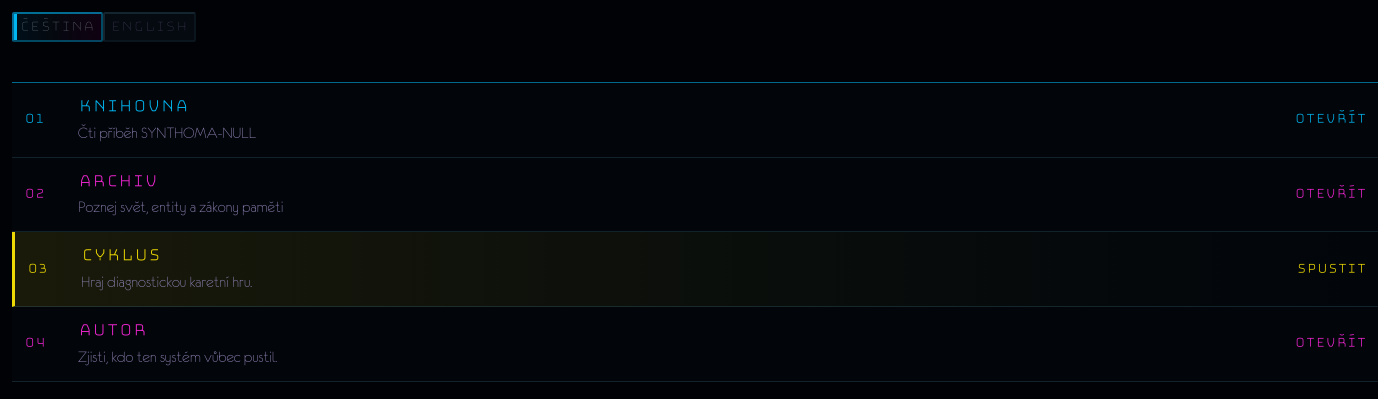
Test case: HomeSectorLinks › updates Author copy through the existing locale provider without changing its route
This screenshot has width=1378, height=399.
Click the button "English" at point(149, 27), box [103,12,196,42]
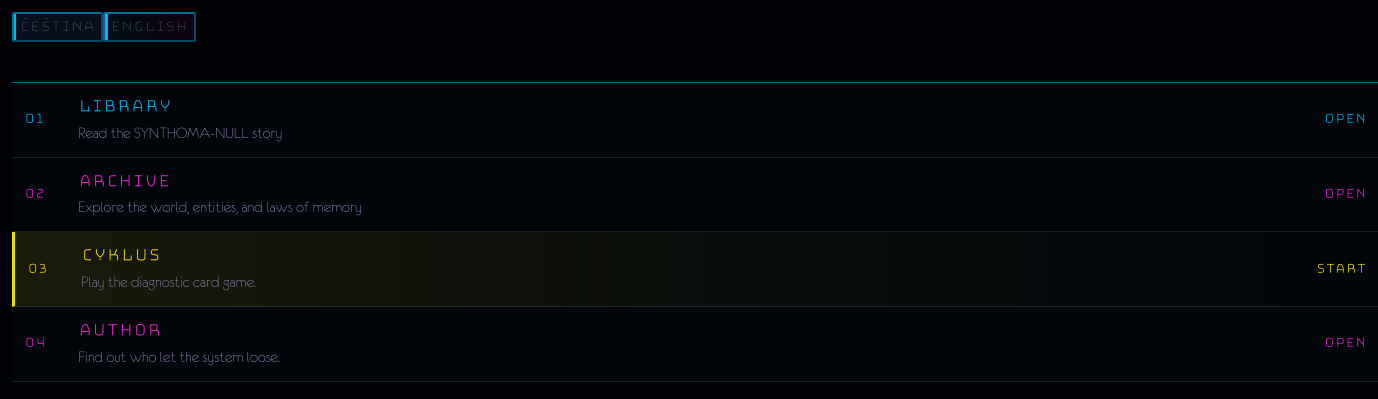
Check: the text "OPEN" is shown 3 times, box [1324,112,1366,127]; [1324,187,1366,202]; [1324,336,1366,351]
Check: the link "04 AUTHOR Find out who let the system loose. OPEN" is shown, box [12,307,1377,382]
